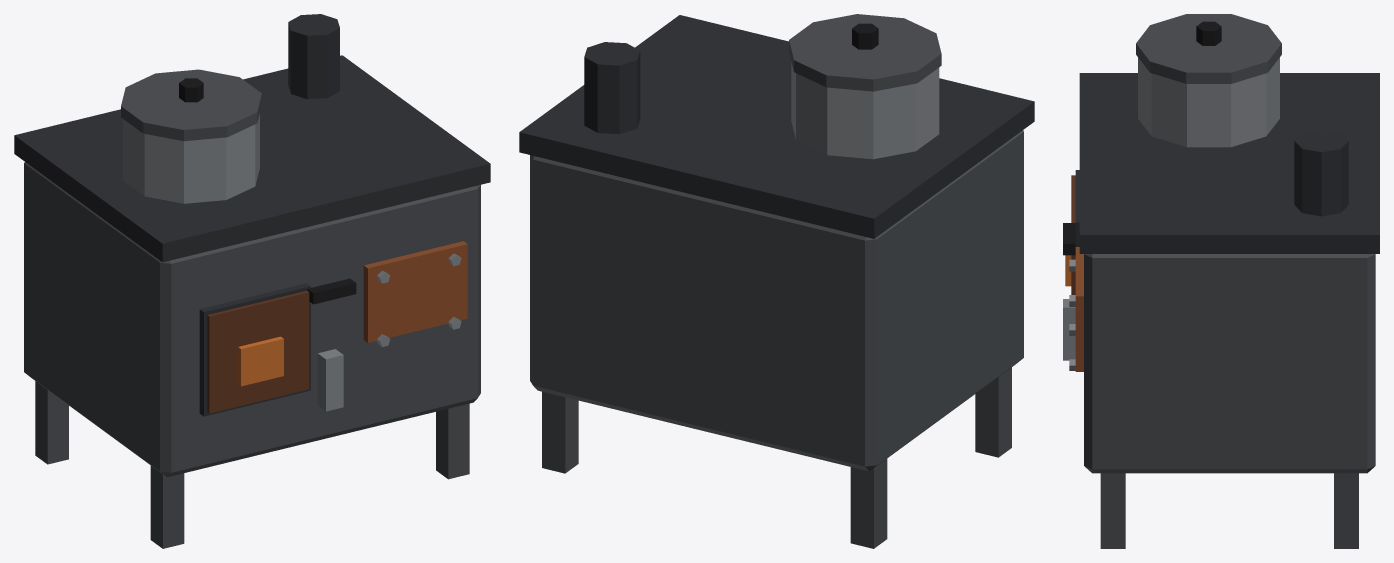
The model's file is piece_stove.fbx.
3 views of the same model, side by side, from view 1: azimuth 30°, elevation 25°; view 2: azimuth 150°, elevation 25°; view 3: azimuth 270°, elevation 25° (orthographic). The views are drawn at different scales.
Visible parts, largest first — view 1: piece_stove; view 2: piece_stove; view 3: piece_stove.
Boxes of the visible parts, x1=… form: piece_stove: x1=14, y1=14, x2=490, y2=548; piece_stove: x1=519, y1=14, x2=1034, y2=548; piece_stove: x1=1063, y1=14, x2=1379, y2=548.
Size of the model in its own units: 0.92 by 1.09 by 0.76.
